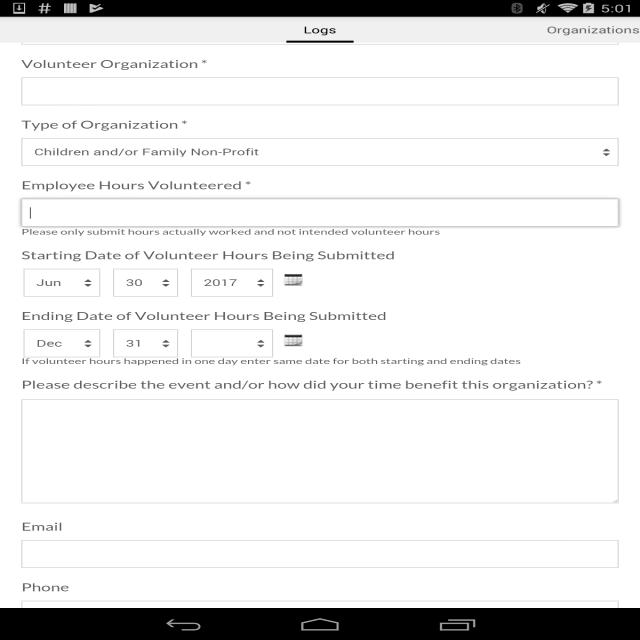Button: (21, 16, 619, 44), (21, 138, 619, 166), (191, 268, 273, 296), (191, 564, 273, 592), (24, 268, 100, 296), (24, 330, 100, 358), (113, 268, 178, 296), (113, 330, 178, 358)
EditText: (21, 78, 619, 106), (21, 198, 619, 226), (21, 634, 619, 640)
TextView: (546, 23, 640, 35), (304, 23, 336, 36)
